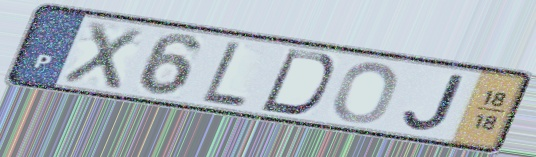6: (135, 32, 205, 97)
D: (256, 46, 338, 117)
J: (401, 72, 469, 133)
L: (198, 38, 249, 110)
O: (330, 60, 401, 126)
X: (57, 18, 146, 93)
